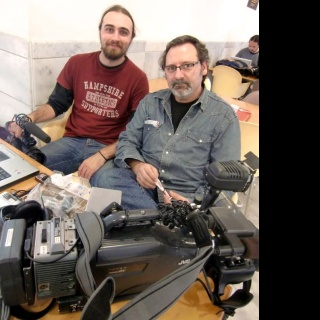without_mask: (166, 48, 202, 99), (102, 11, 132, 62), (249, 41, 259, 53)
